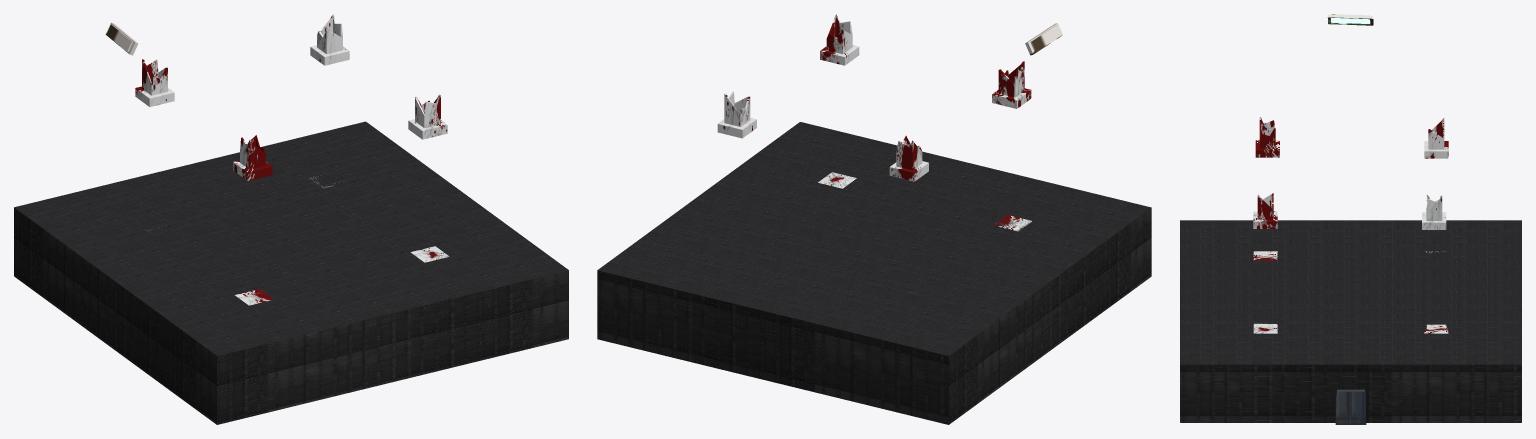
The model's file is room.gltf.
3 renders of one model, left to right at view 1: azimuth 30°, elevation 25°; view 2: azimuth 150°, elevation 25°; view 3: azimuth 270°, elevation 25°, orthographic. The views are drawn at different scales.
Visible parts, largest first — view 1: Cieling, Wall.004, Wall.002, BrokenPillar.002, BrokenPillar.001, BrokenPillar.004, BrokenPillar.003; view 2: Cieling, Wall.003, Wall.002, BrokenPillar.003, BrokenPillar.001, BrokenPillar.004, BrokenPillar.002, Lamp; view 3: Cieling, Wall.001, Door, BrokenPillar.004, BrokenPillar.002, BrokenPillar.003, BrokenPillar.001, Lamp.
Boxes of the visible parts, x1,y1,x2,y2 form: Cieling: (14,121,567,355); Wall.004: (217,270,568,424); Wall.002: (14,207,217,424); BrokenPillar.002: (135,59,174,106); BrokenPillar.001: (310,14,349,65); BrokenPillar.004: (233,135,272,180); BrokenPillar.003: (408,94,447,139); Cieling: (598,122,1150,355); Wall.003: (597,270,948,424); Wall.002: (948,207,1151,424); BrokenPillar.003: (820,14,859,65); BrokenPillar.001: (717,91,756,138); BrokenPillar.004: (992,61,1031,108); BrokenPillar.002: (889,136,928,181); Lamp: (1025,23,1062,55); Cieling: (1180,220,1521,364); Wall.001: (1180,364,1521,422); Door: (1335,389,1366,424); BrokenPillar.004: (1255,117,1279,157); BrokenPillar.002: (1424,118,1448,158); BrokenPillar.003: (1253,192,1277,228); BrokenPillar.001: (1422,194,1446,229); Lamp: (1327,14,1373,25).
Bounding box in the file's own units: 32.52 × 27.81 × 32.04.
